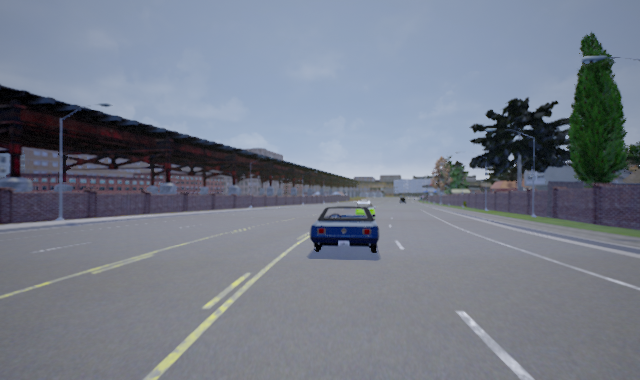vehicle: (308, 203, 380, 258), (351, 200, 376, 222)
